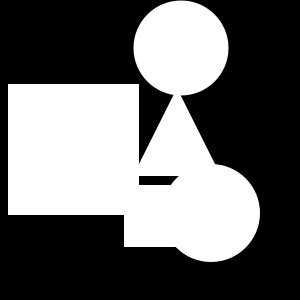circle: (8, 84, 139, 215), (124, 185, 186, 247)
rectangle: (162, 164, 260, 262), (134, 1, 228, 96)
triangle: (133, 88, 221, 176)
